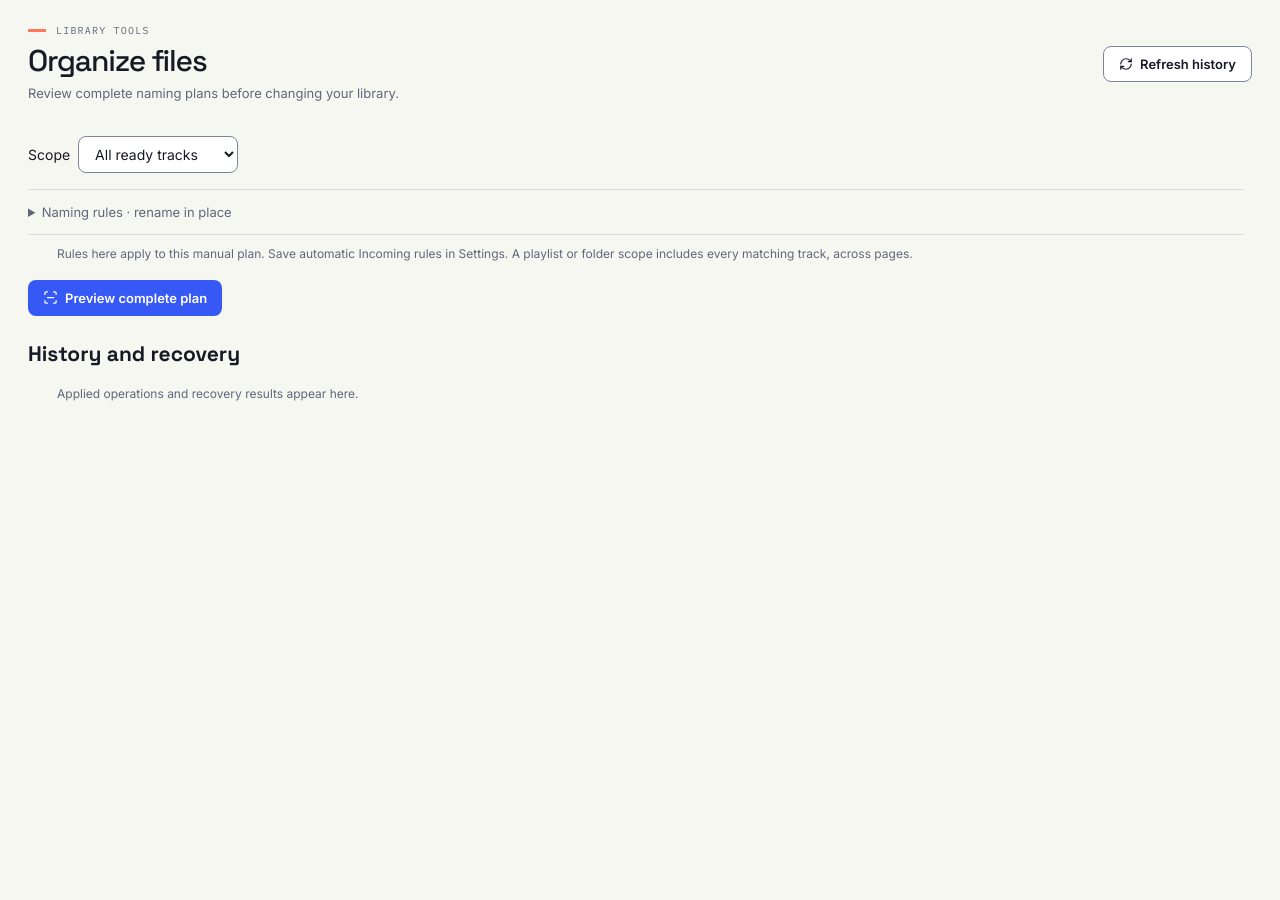
Test case: refreshes durable recovery history after apply rejects and invalidates the consumed preview
The width and height of the screenshot is (1280, 900).
Click the button "Preview complete plan": click(125, 298) x1=28 y1=280 x2=222 y2=316
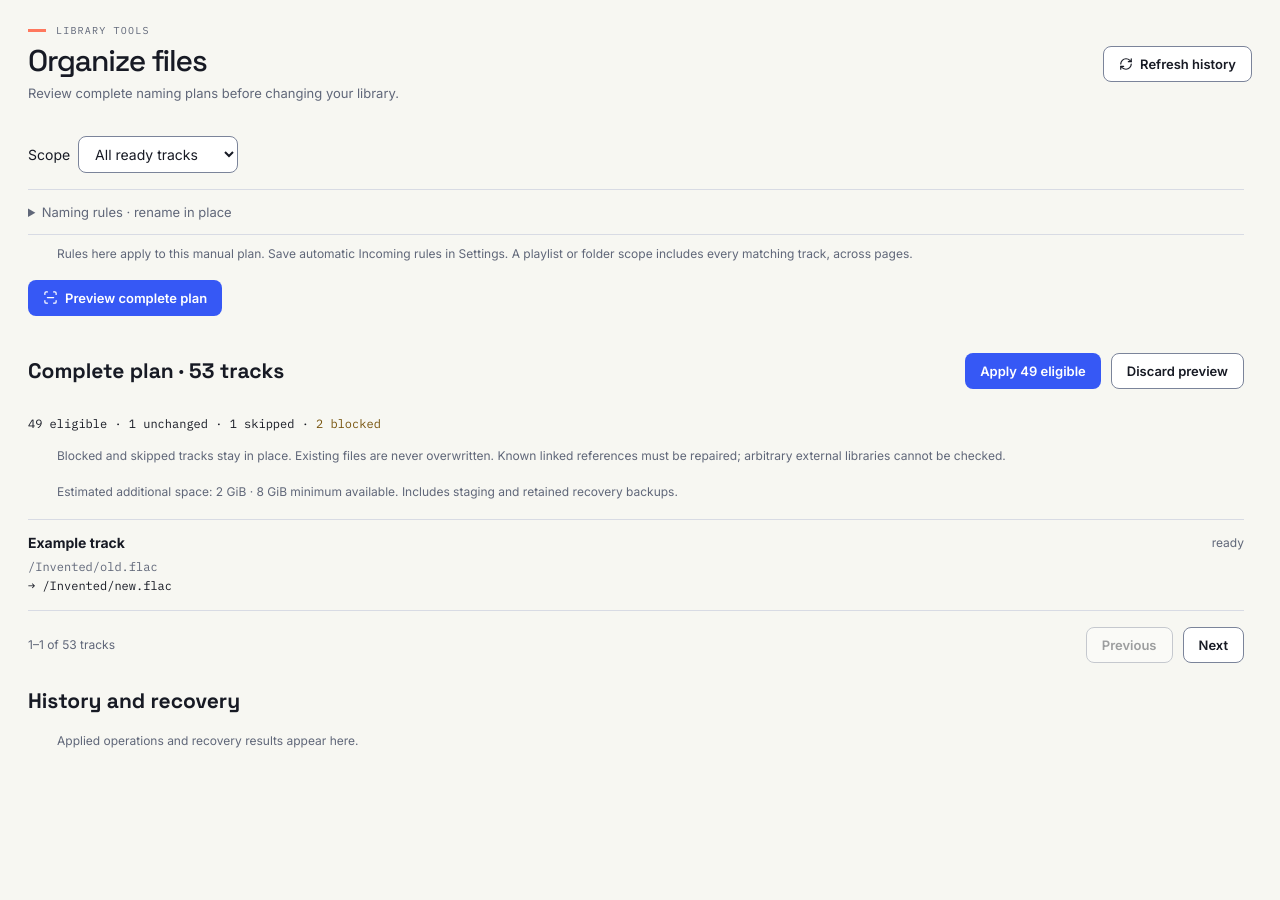
Expected: the heading "Complete plan · 53 tracks" is shown, x1=28 y1=357 x2=284 y2=384
Expected: the button "Apply 49 eligible" is enabled
Click the button "Apply 49 eligible": click(1033, 371) x1=965 y1=353 x2=1101 y2=389
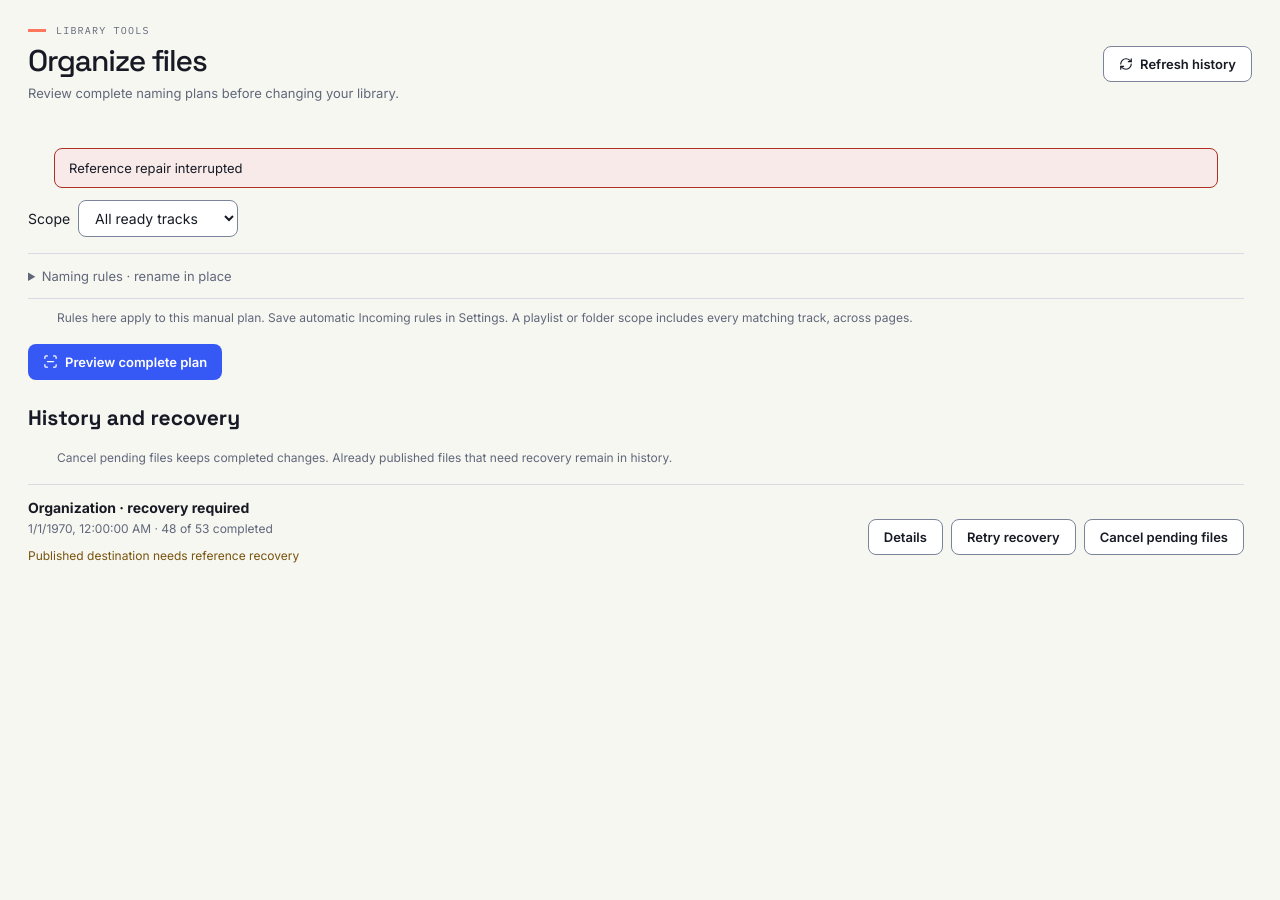
Expected: the button "Retry recovery" is shown, x1=951 y1=519 x2=1076 y2=555
Expected: the message reads "Reference repair interrupted", x1=69 y1=160 x2=242 y2=176
Expected: the button "Apply 49 eligible" is gone
